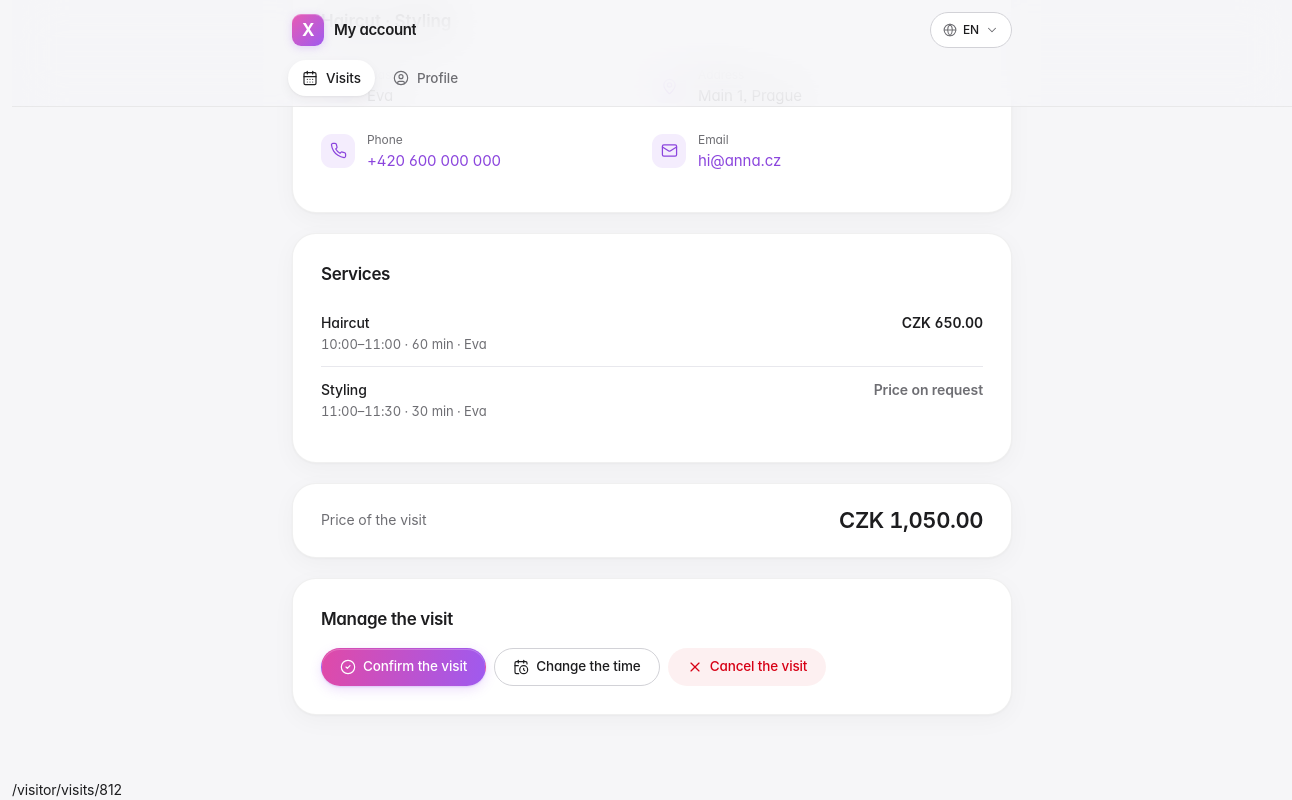
Test: retries once quietly when the server asks to
This screenshot has width=1292, height=800.
(page scrolled)
Click the button "Confirm the visit": [404, 667] box [321, 648, 486, 686]
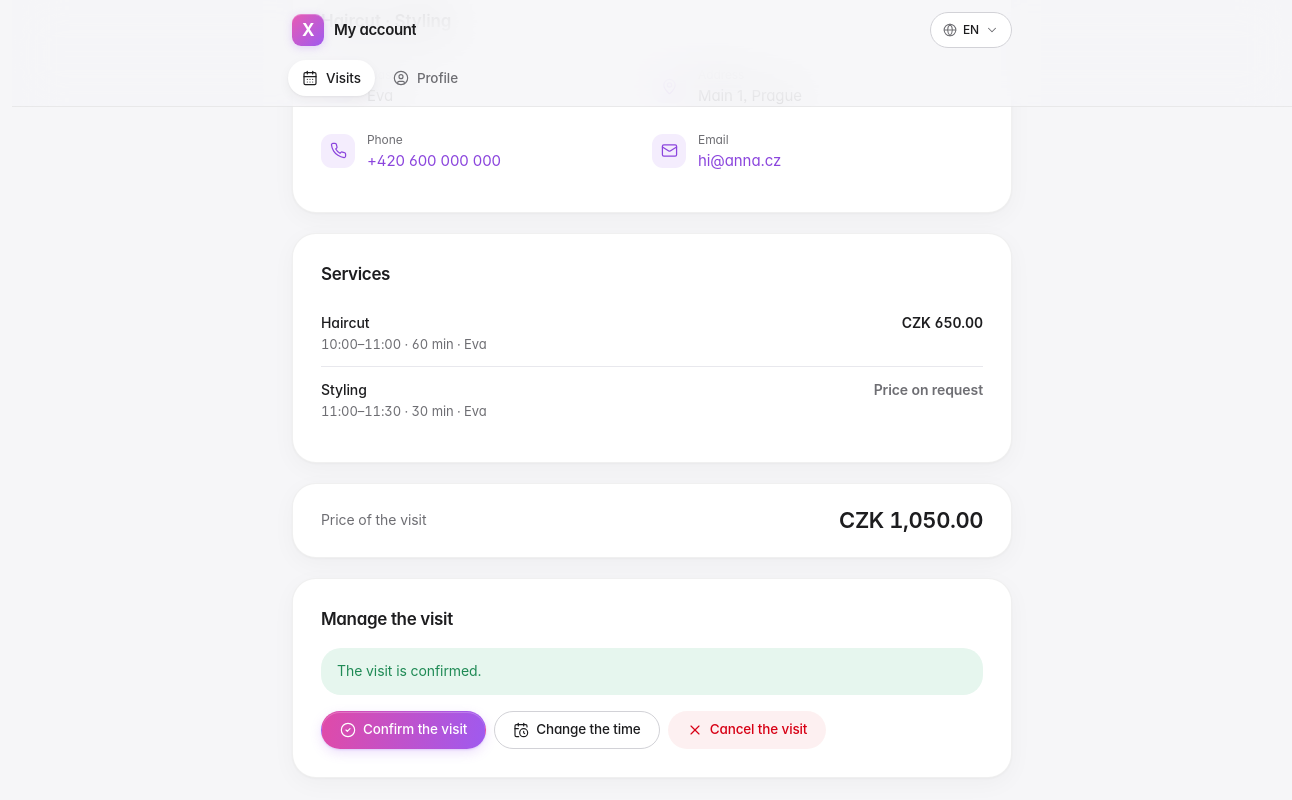
expect the text "The visit is confirmed." is shown: met, box [321, 648, 983, 695]
